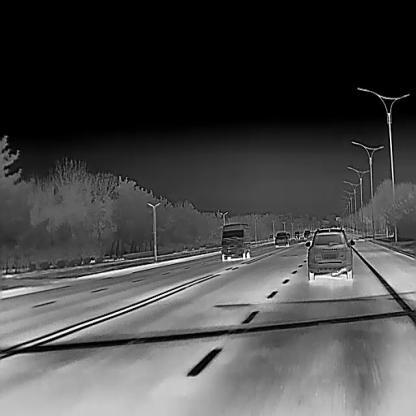car: (304, 228, 355, 280), (220, 223, 251, 260), (274, 231, 289, 247), (293, 230, 300, 240)
